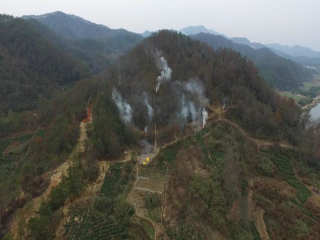smoke: (109, 50, 210, 154)
